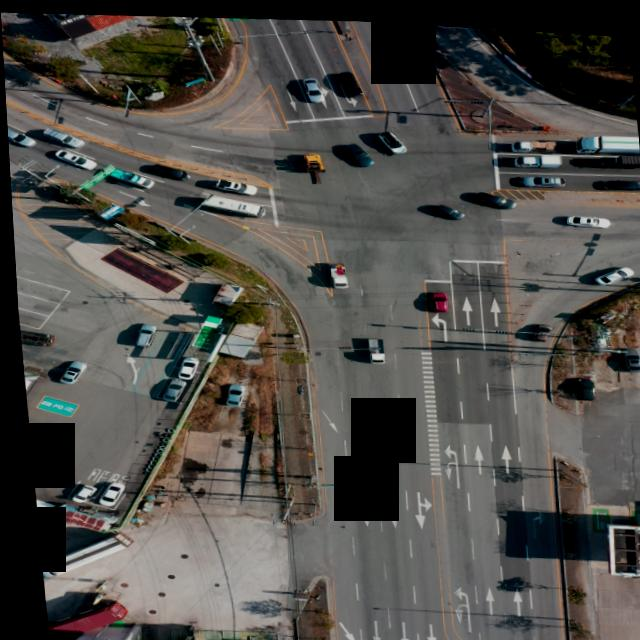car: (52, 147, 96, 169), (138, 159, 183, 179), (339, 138, 372, 165), (148, 375, 182, 401), (588, 257, 630, 278), (472, 184, 516, 203), (53, 359, 85, 384), (209, 176, 255, 193), (374, 124, 405, 149), (88, 479, 117, 504), (335, 67, 360, 95), (518, 166, 563, 181), (6, 126, 34, 149), (128, 321, 154, 345), (300, 73, 324, 99), (562, 205, 606, 219), (596, 169, 640, 183), (62, 481, 90, 501), (171, 354, 195, 377), (526, 315, 551, 336), (572, 369, 592, 395), (218, 379, 240, 402), (432, 198, 463, 214), (618, 340, 638, 363), (427, 286, 444, 308)
medium_truck: (34, 532, 128, 582), (575, 126, 639, 150), (15, 328, 54, 346)
small_bus: (195, 187, 263, 214)
small_truck: (97, 159, 153, 188), (39, 125, 83, 146), (513, 146, 559, 163), (594, 143, 640, 160), (511, 132, 558, 148), (324, 258, 344, 284), (362, 332, 380, 359)
